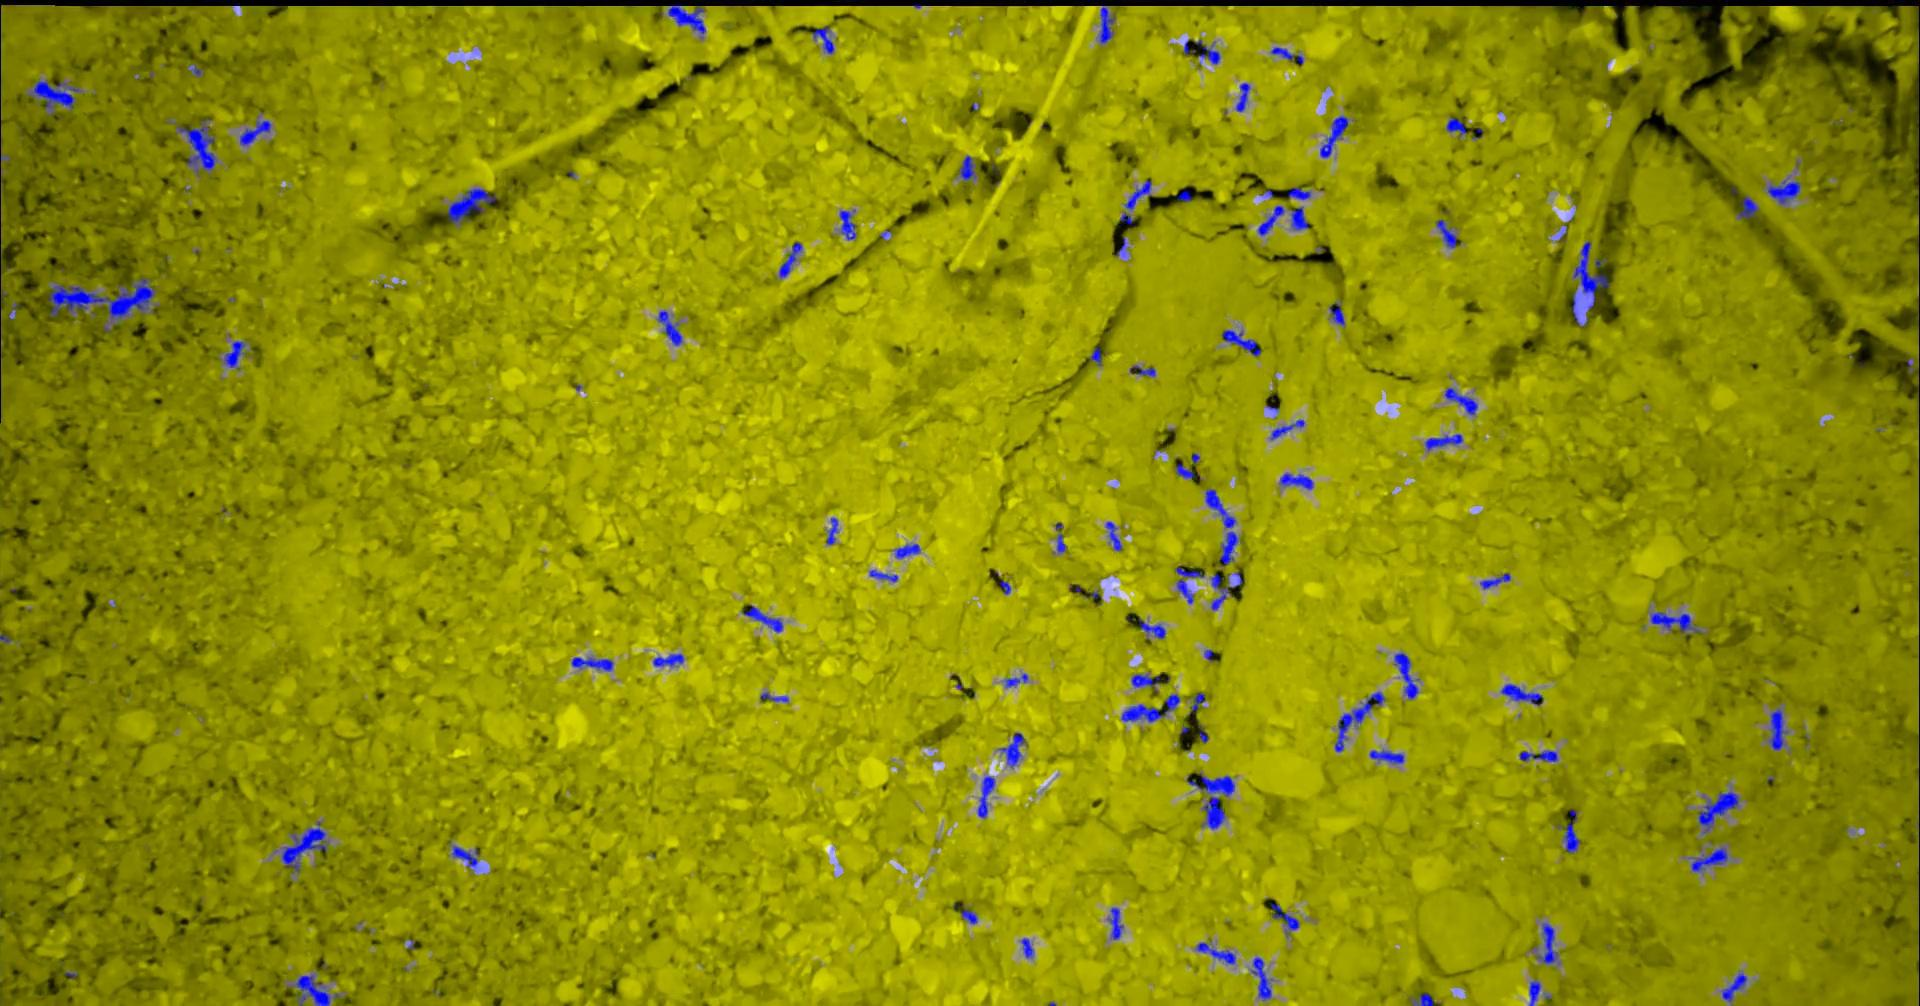ant: (1336, 691, 1387, 751), (1189, 772, 1236, 829), (1575, 241, 1611, 311), (1206, 488, 1239, 565), (283, 821, 328, 873), (179, 118, 218, 174), (443, 188, 499, 224), (1700, 791, 1741, 833), (30, 80, 80, 114), (1123, 694, 1181, 721), (1121, 179, 1153, 225), (297, 974, 342, 1005), (669, 3, 707, 37), (1211, 572, 1244, 608), (1396, 652, 1421, 699), (1321, 116, 1349, 158), (742, 605, 783, 633), (1652, 611, 1704, 633), (1176, 567, 1206, 603), (1224, 329, 1262, 356), (1691, 847, 1730, 873), (1001, 732, 1026, 768), (1502, 683, 1545, 705), (1537, 922, 1559, 963), (1272, 902, 1302, 934), (1446, 387, 1479, 414), (1252, 956, 1272, 1000), (1258, 205, 1286, 235), (1197, 942, 1237, 964), (659, 311, 683, 345), (1770, 708, 1789, 749), (241, 119, 272, 145), (781, 241, 803, 277), (1769, 180, 1801, 205), (1723, 972, 1749, 1001), (1558, 822, 1581, 852), (979, 775, 996, 817), (1437, 218, 1462, 246), (1272, 419, 1305, 439), (225, 340, 248, 368), (1426, 433, 1464, 450), (453, 845, 480, 868), (814, 25, 836, 53), (571, 657, 615, 671), (1101, 4, 1116, 43), (1272, 46, 1305, 64), (1281, 473, 1316, 489), (1481, 572, 1512, 589), (1109, 907, 1125, 939), (1133, 673, 1162, 691), (1140, 619, 1167, 638), (1738, 196, 1760, 218), (841, 210, 857, 239), (1371, 749, 1404, 763), (960, 155, 978, 180), (1107, 521, 1123, 550), (1291, 206, 1310, 229), (1521, 749, 1559, 761), (1200, 44, 1222, 64), (1237, 83, 1251, 111), (654, 653, 684, 666), (827, 517, 841, 544), (897, 542, 921, 558), (1448, 117, 1468, 135), (963, 902, 979, 923), (1331, 302, 1346, 325), (1413, 992, 1440, 1005), (1177, 464, 1200, 478), (871, 569, 899, 580), (1006, 673, 1029, 687), (1289, 187, 1312, 199), (1131, 365, 1157, 376), (1530, 981, 1542, 1005), (1192, 692, 1206, 711), (761, 692, 790, 701), (1090, 347, 1103, 365), (1022, 937, 1035, 956), (1058, 533, 1067, 553), (190, 64, 204, 75), (1178, 189, 1192, 201)
